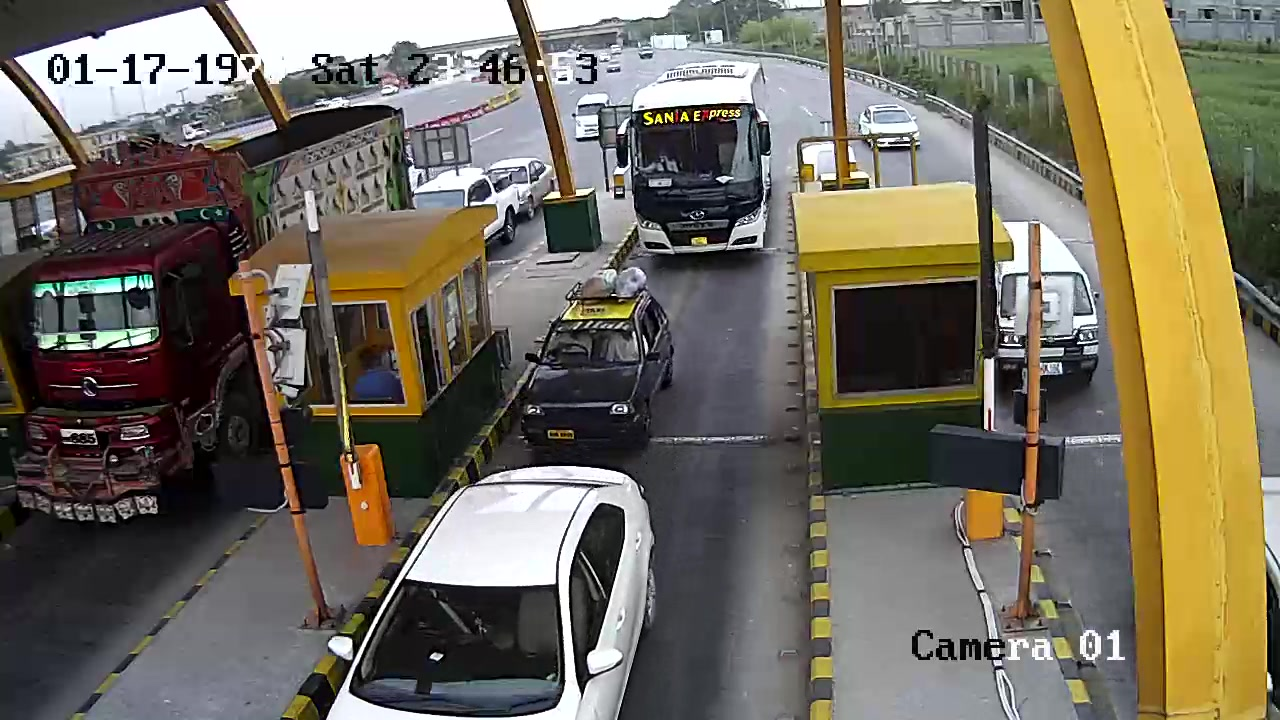F1: (510, 271, 689, 454)
